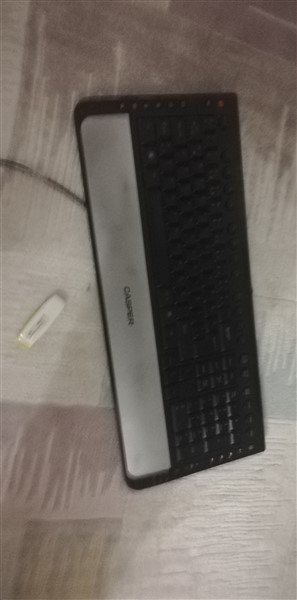flash disk: (13, 292, 69, 354)
klavye: (69, 82, 270, 488)
